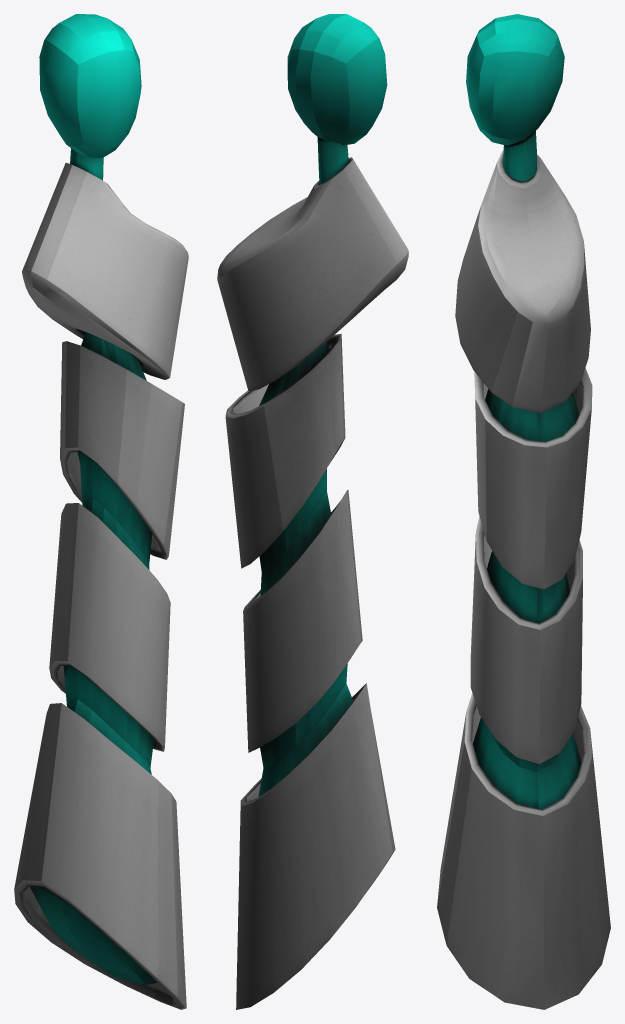
Rendered from podaseries01.obj.
The picture shows the model from 3 angles, left to right: view 1: azimuth 30°, elevation 25°; view 2: azimuth 150°, elevation 25°; view 3: azimuth 270°, elevation 25°; orthographic projection. The views are drawn at different scales.
Visible parts, largest first — view 1: Body, Head; view 2: Body, Head; view 3: Body, Head.
Boxes of the visible parts, x1,y1,x2,y2 form: Body: [14, 148, 188, 1009]; Head: [39, 14, 141, 157]; Body: [217, 137, 408, 1009]; Head: [287, 14, 387, 145]; Body: [437, 131, 610, 1009]; Head: [466, 14, 564, 145].
Size of the model in its own units: 0.2947 by 1.68 by 0.2785.
Materials: 2 (2 with a texture image).
